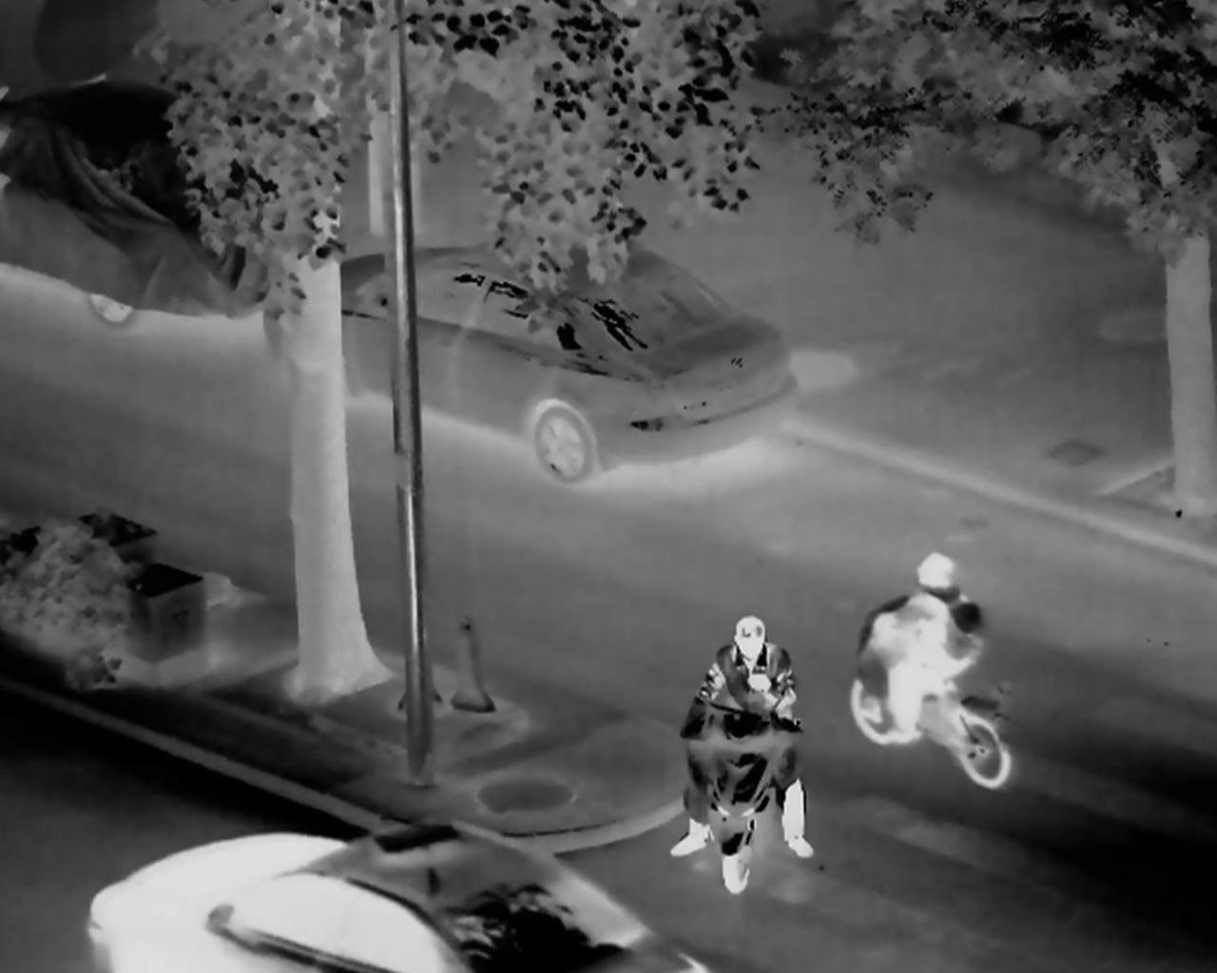person: (679, 600, 828, 887), (848, 553, 996, 772)
